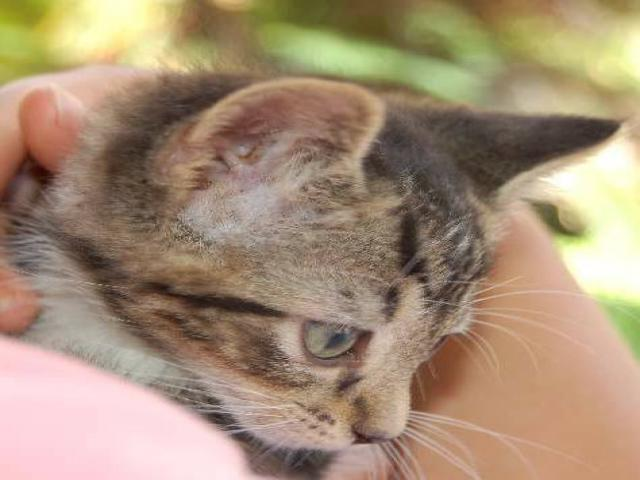cat: (2, 65, 622, 474)
